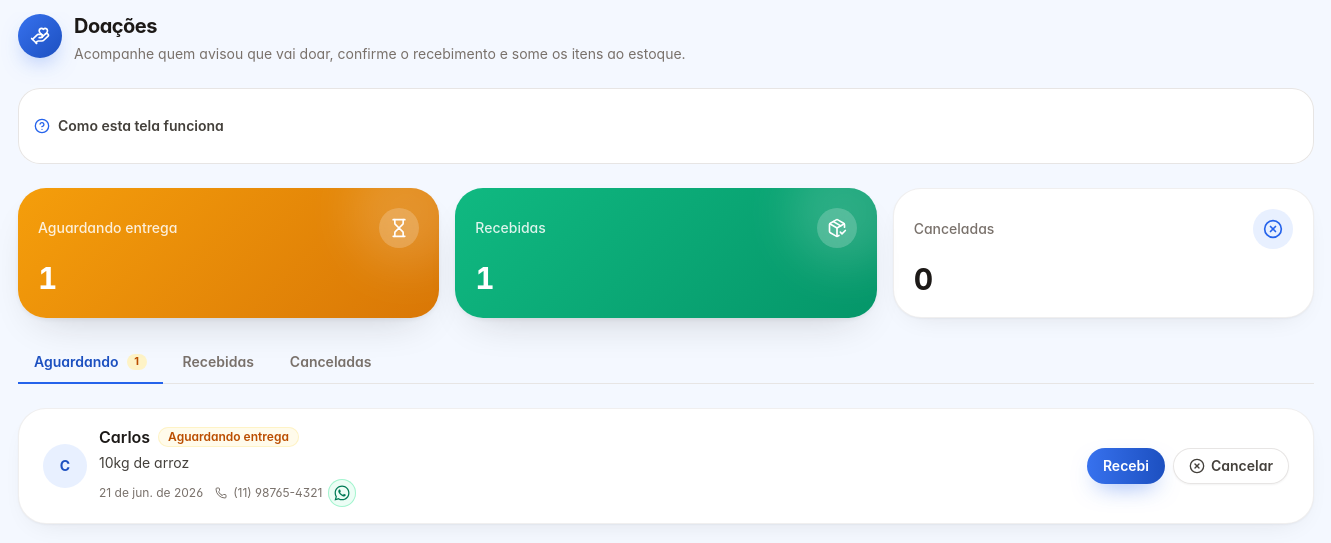
Test: DonationsPage › pede confirmação antes de cancelar e permite voltar
Click the button "Cancelar" at (1231, 466), box [1173,448,1289,484]
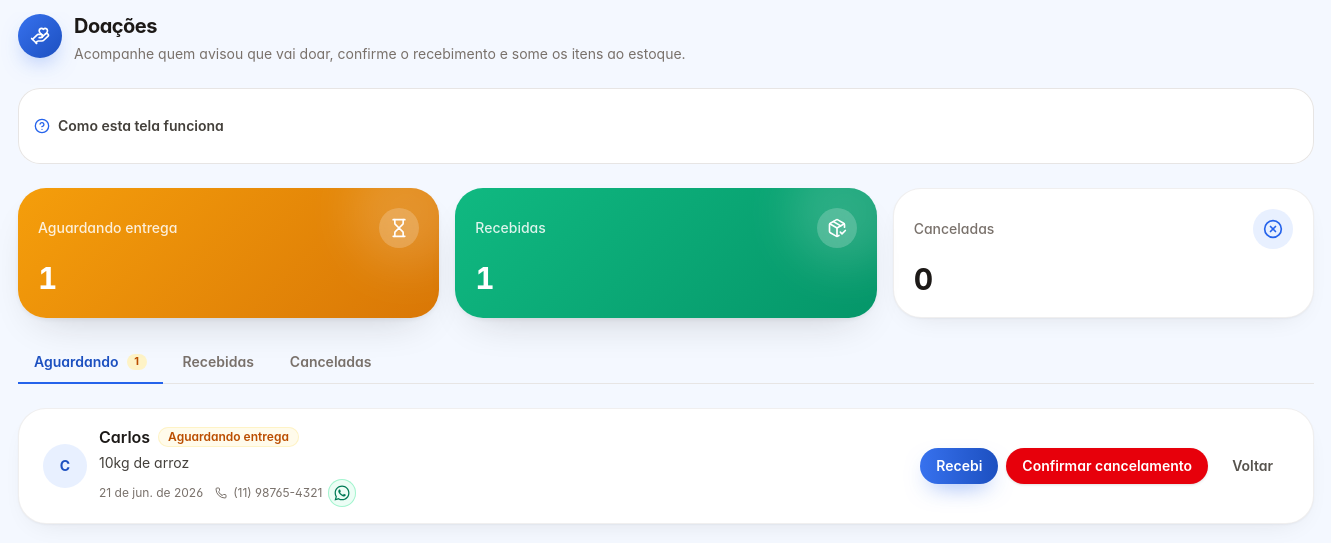
Click the button "Voltar" at (1253, 466), box [1216,448,1289,484]
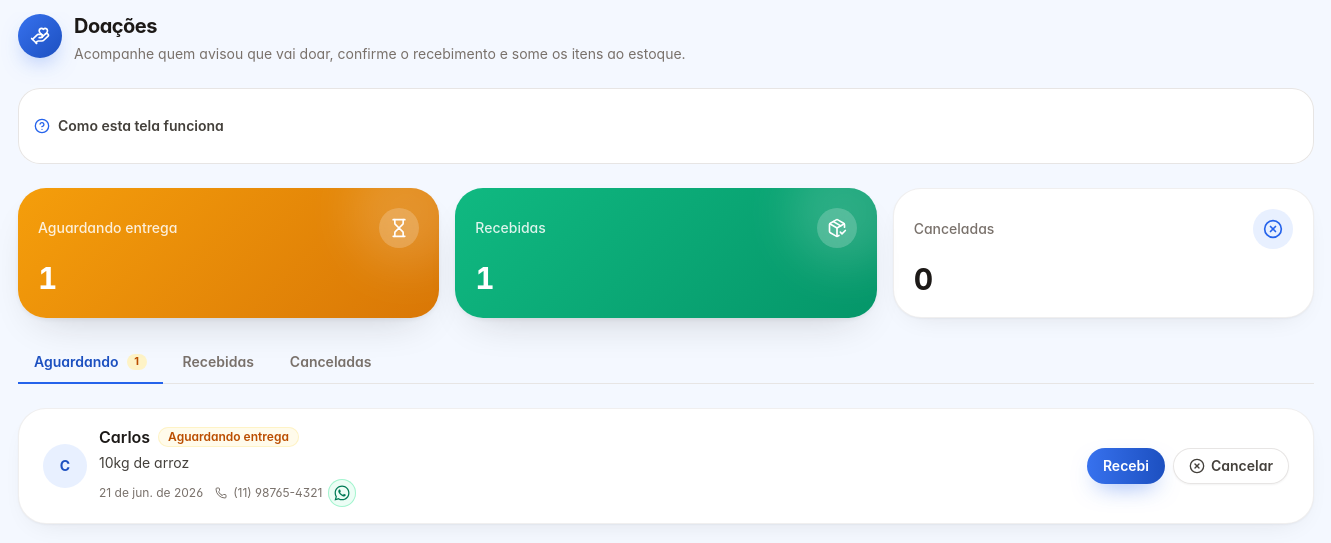
Result: the button "Cancelar" is shown at [1173,448,1289,484]
